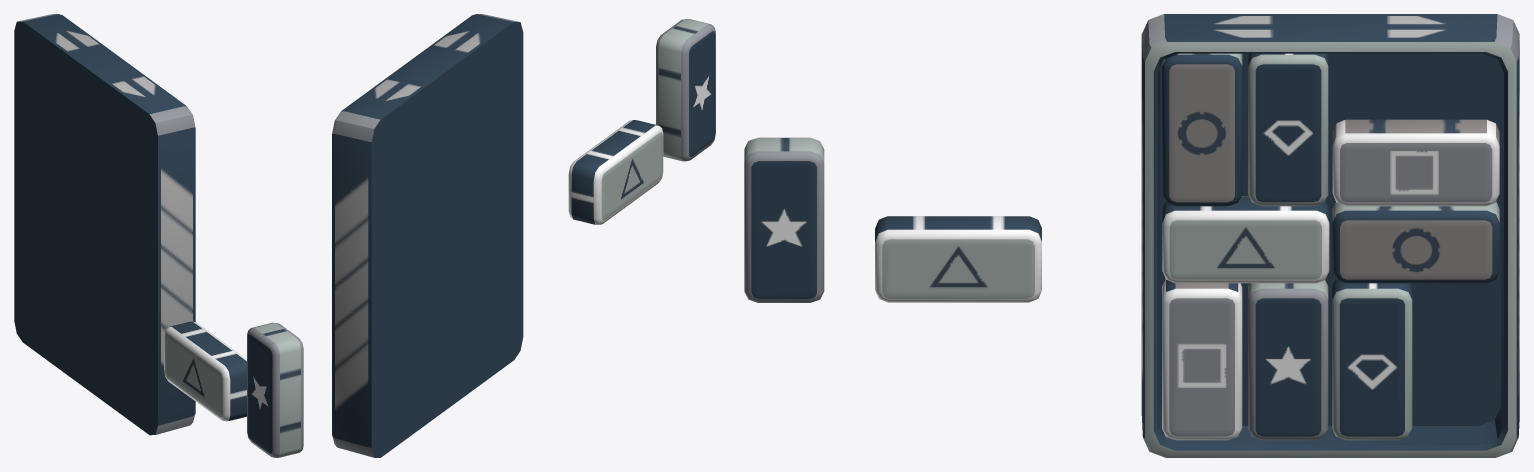
File: Mesh_StaffRoom_puzzle.fbx
3 views of the same model, side by side, from view 1: azimuth 30°, elevation 25°; view 2: azimuth 150°, elevation 25°; view 3: azimuth 270°, elevation 25° (orthographic). The views are drawn at different scales.
Parts seen in each view (by area): view 1: Support_puzzle, cube_a_trouver1, cube_a_trouver2; view 2: Support_puzzle, cube_a_trouver1, cube_a_trouver2; view 3: Support_puzzle, cube3, cube_a_trouver2, cube_a_trouver1, cube5, cube4, cube8, cube6, cube7, cube2, cube1.
Boxes of the visible parts, left/top/right/bottom form: Support_puzzle: left=14, top=14, right=195, bottom=435; cube_a_trouver1: left=247, top=322, right=303, bottom=457; cube_a_trouver2: left=164, top=321, right=246, bottom=421; Support_puzzle: left=332, top=14, right=523, bottom=457; cube_a_trouver1: left=656, top=19, right=715, bottom=161; cube_a_trouver2: left=568, top=120, right=663, bottom=224; Support_puzzle: left=1141, top=14, right=1519, bottom=457; cube3: left=1332, top=119, right=1499, bottom=206; cube_a_trouver2: left=875, top=216, right=1041, bottom=302; cube_a_trouver1: left=744, top=137, right=824, bottom=302; cube5: left=1162, top=196, right=1329, bottom=283; cube4: left=1332, top=202, right=1499, bottom=283; cube8: left=1332, top=279, right=1412, bottom=440; cube6: left=1162, top=279, right=1242, bottom=440; cube7: left=1248, top=280, right=1328, bottom=440; cube2: left=1248, top=53, right=1328, bottom=206; cube1: left=1162, top=53, right=1242, bottom=206.
Bounding box in the file's own units: 34.12 × 140 × 233.
2 materials, 2 textured.
